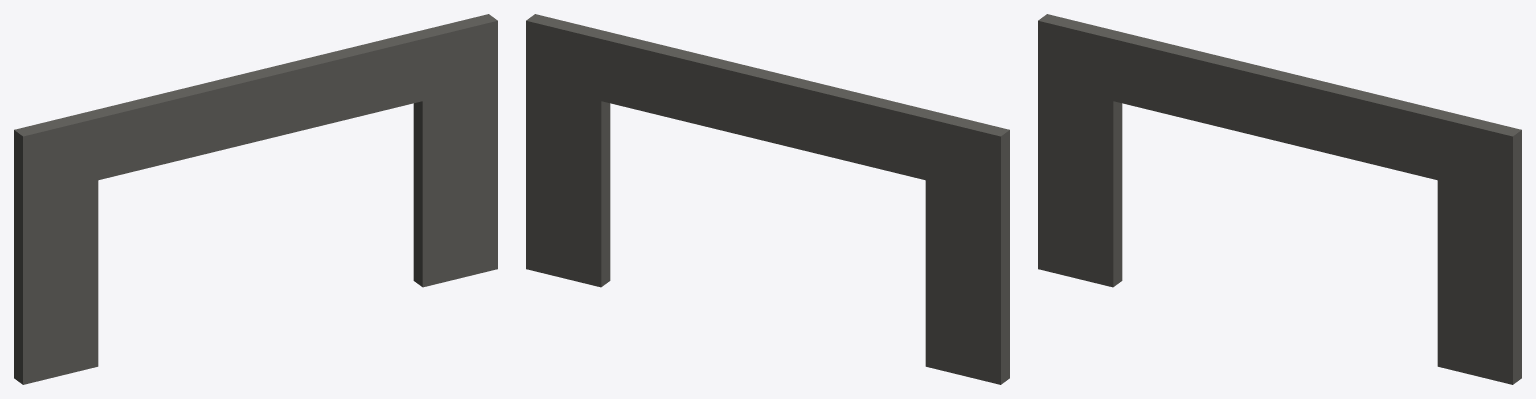
Rendered from SM_Garage_Door.fbx.
The picture shows the model from 3 angles, left to right: view 1: azimuth 30°, elevation 25°; view 2: azimuth 150°, elevation 25°; view 3: azimuth 330°, elevation 25°; orthographic projection.
Parts seen in each view (by area): view 1: SM_Garage_Door; view 2: SM_Garage_Door; view 3: SM_Garage_Door.
Part boxes in pixels (left/top/right/bottom): SM_Garage_Door: left=14, top=14, right=497, bottom=384; SM_Garage_Door: left=526, top=14, right=1009, bottom=384; SM_Garage_Door: left=1038, top=14, right=1521, bottom=384.
Bounding box in the file's own units: 600 × 300 × 20.
